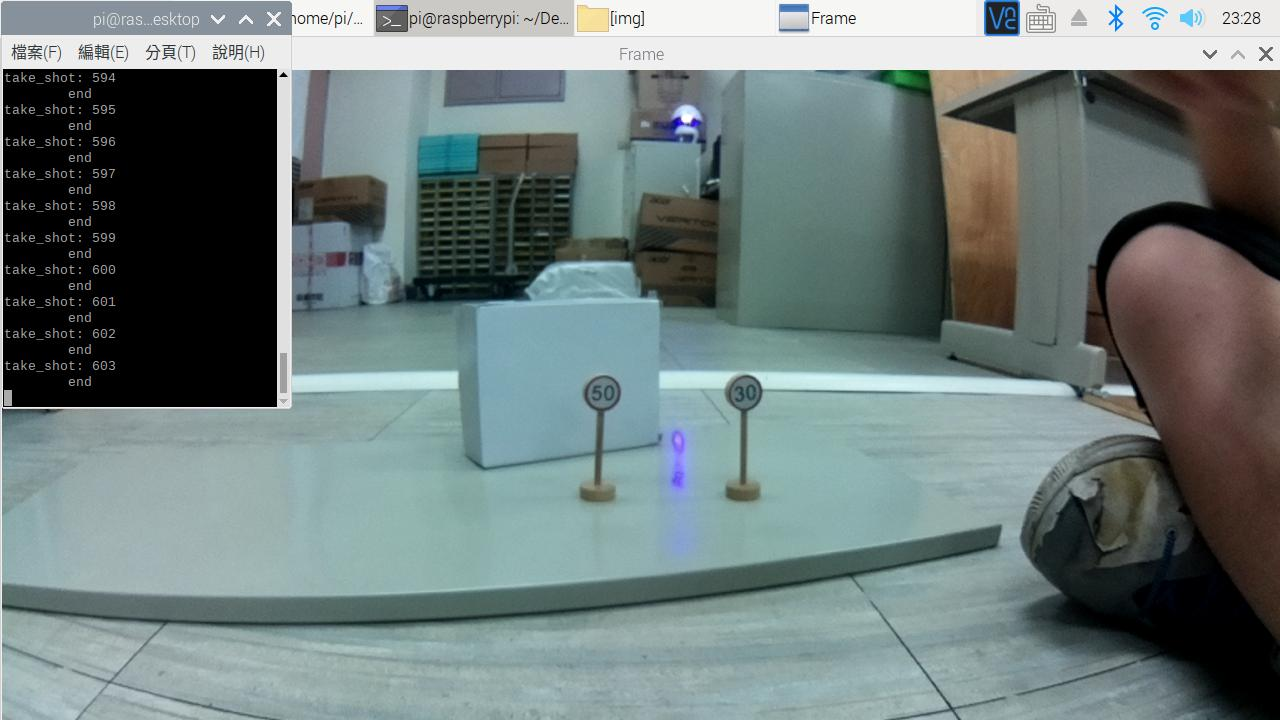Speed30: (721, 369, 770, 418)
Speed50: (582, 368, 629, 424)
